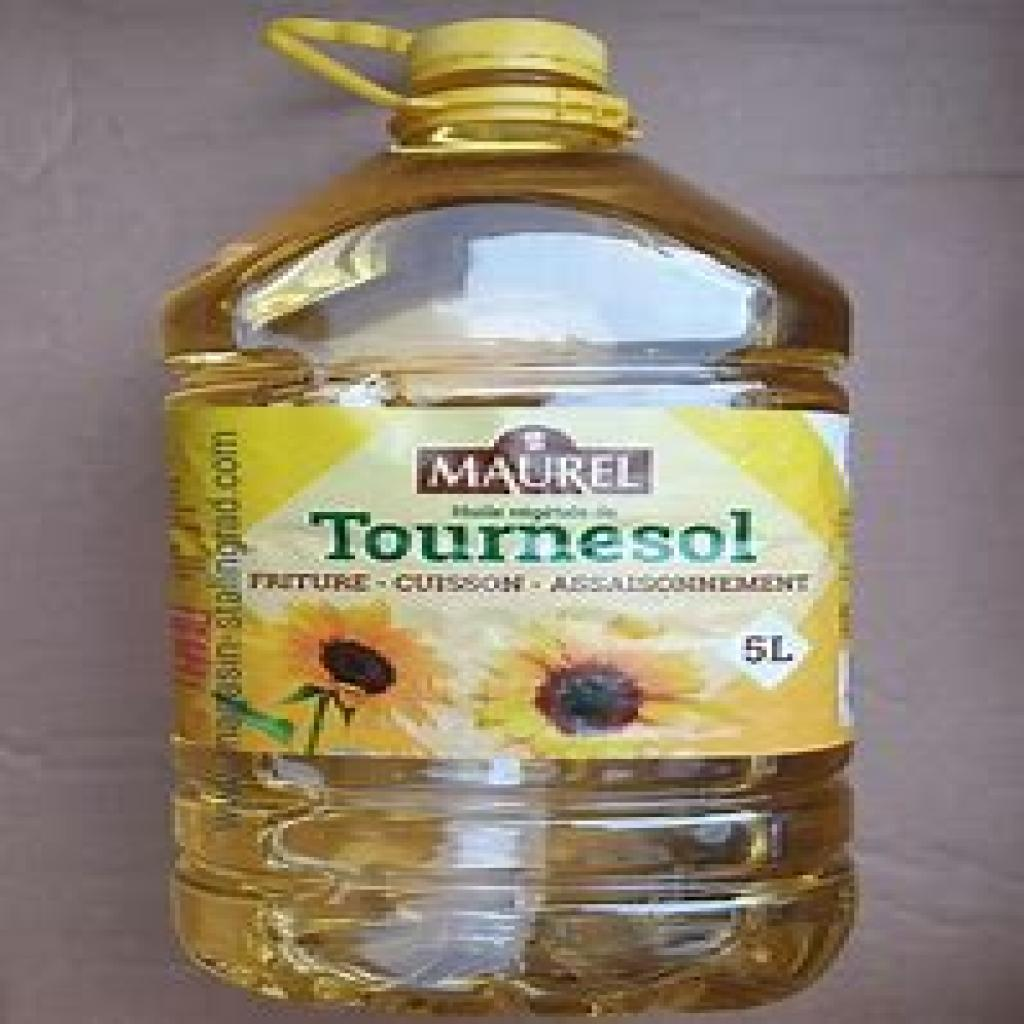plastic: (157, 49, 893, 1012)
